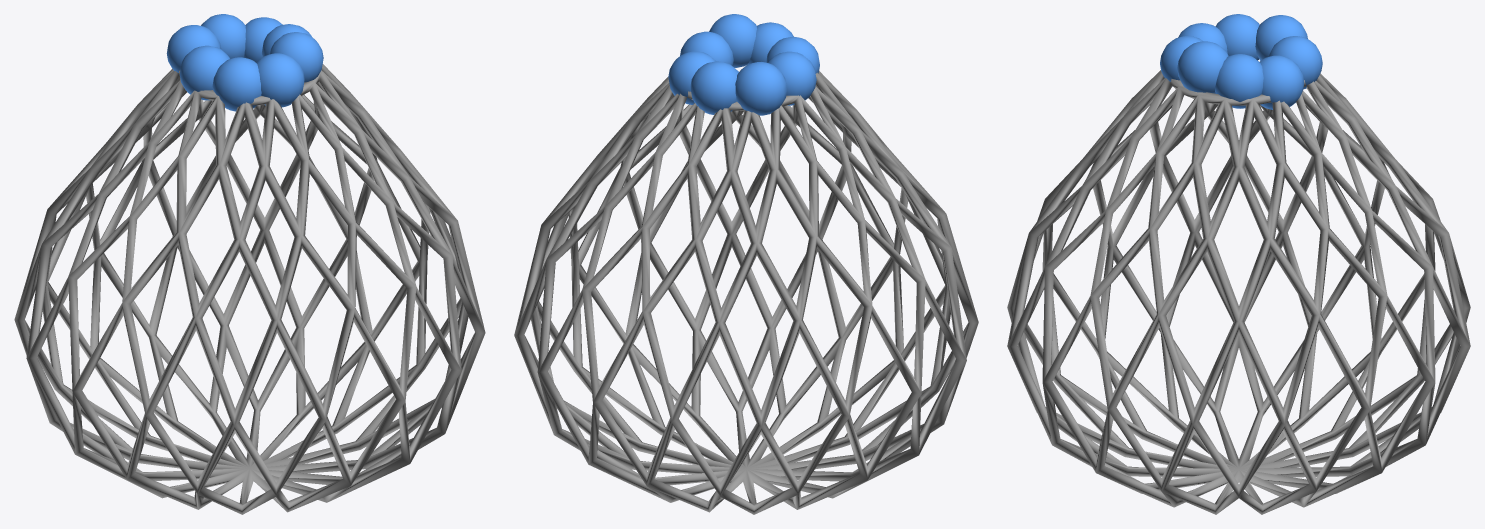
The model's file is net_bullet_effect.fbx.
3 renders of one model, left to right at view 1: azimuth 30°, elevation 25°; view 2: azimuth 150°, elevation 25°; view 3: azimuth 270°, elevation 25°, orthographic.
Parts seen in each view (by area): view 1: 球体, 球体.007, 球体.002, 球体.003, 球体.006, 球体.008, 球体.001, 球体.005, 球体.004; view 2: 球体, 球体.008, 球体.001, 球体.006, 球体.003, 球体.005, 球体.004, 球体.002, 球体.007; view 3: 球体, 球体.006, 球体.004, 球体.005, 球体.001, 球体.003, 球体.008, 球体.002, 球体.007.
Boxes of the visible parts, box(x1,y1,x2,y2) form: 球体: box(14, 64, 485, 514); 球体.007: box(212, 57, 261, 111); 球体.002: box(256, 53, 304, 107); 球体.003: box(179, 45, 229, 100); 球体.006: box(270, 32, 323, 82); 球体.008: box(166, 25, 221, 72); 球体.001: box(201, 14, 245, 58); 球体.005: box(244, 17, 282, 62); 球体.004: box(262, 24, 311, 57); 球体: box(514, 71, 978, 514); 球体.008: box(735, 62, 787, 115); 球体.001: box(690, 61, 738, 114); 球体.006: box(709, 14, 756, 67); 球体.003: box(768, 51, 816, 105); 球体.005: box(668, 51, 715, 104); 球体.004: box(680, 31, 733, 65); 球体.002: box(748, 22, 793, 64); 球体.007: box(766, 36, 819, 73); 球体: box(1007, 70, 1470, 514); 球体.006: box(1177, 41, 1228, 93); 球体.004: box(1215, 54, 1263, 108); 球体.005: box(1260, 55, 1304, 109); 球体.001: box(1268, 36, 1322, 89); 球体.003: box(1215, 14, 1259, 60); 球体.008: box(1255, 15, 1307, 60); 球体.002: box(1160, 36, 1202, 81); 球体.007: box(1178, 23, 1227, 53).
Size of the model in its own units: 132 by 142 by 132.
